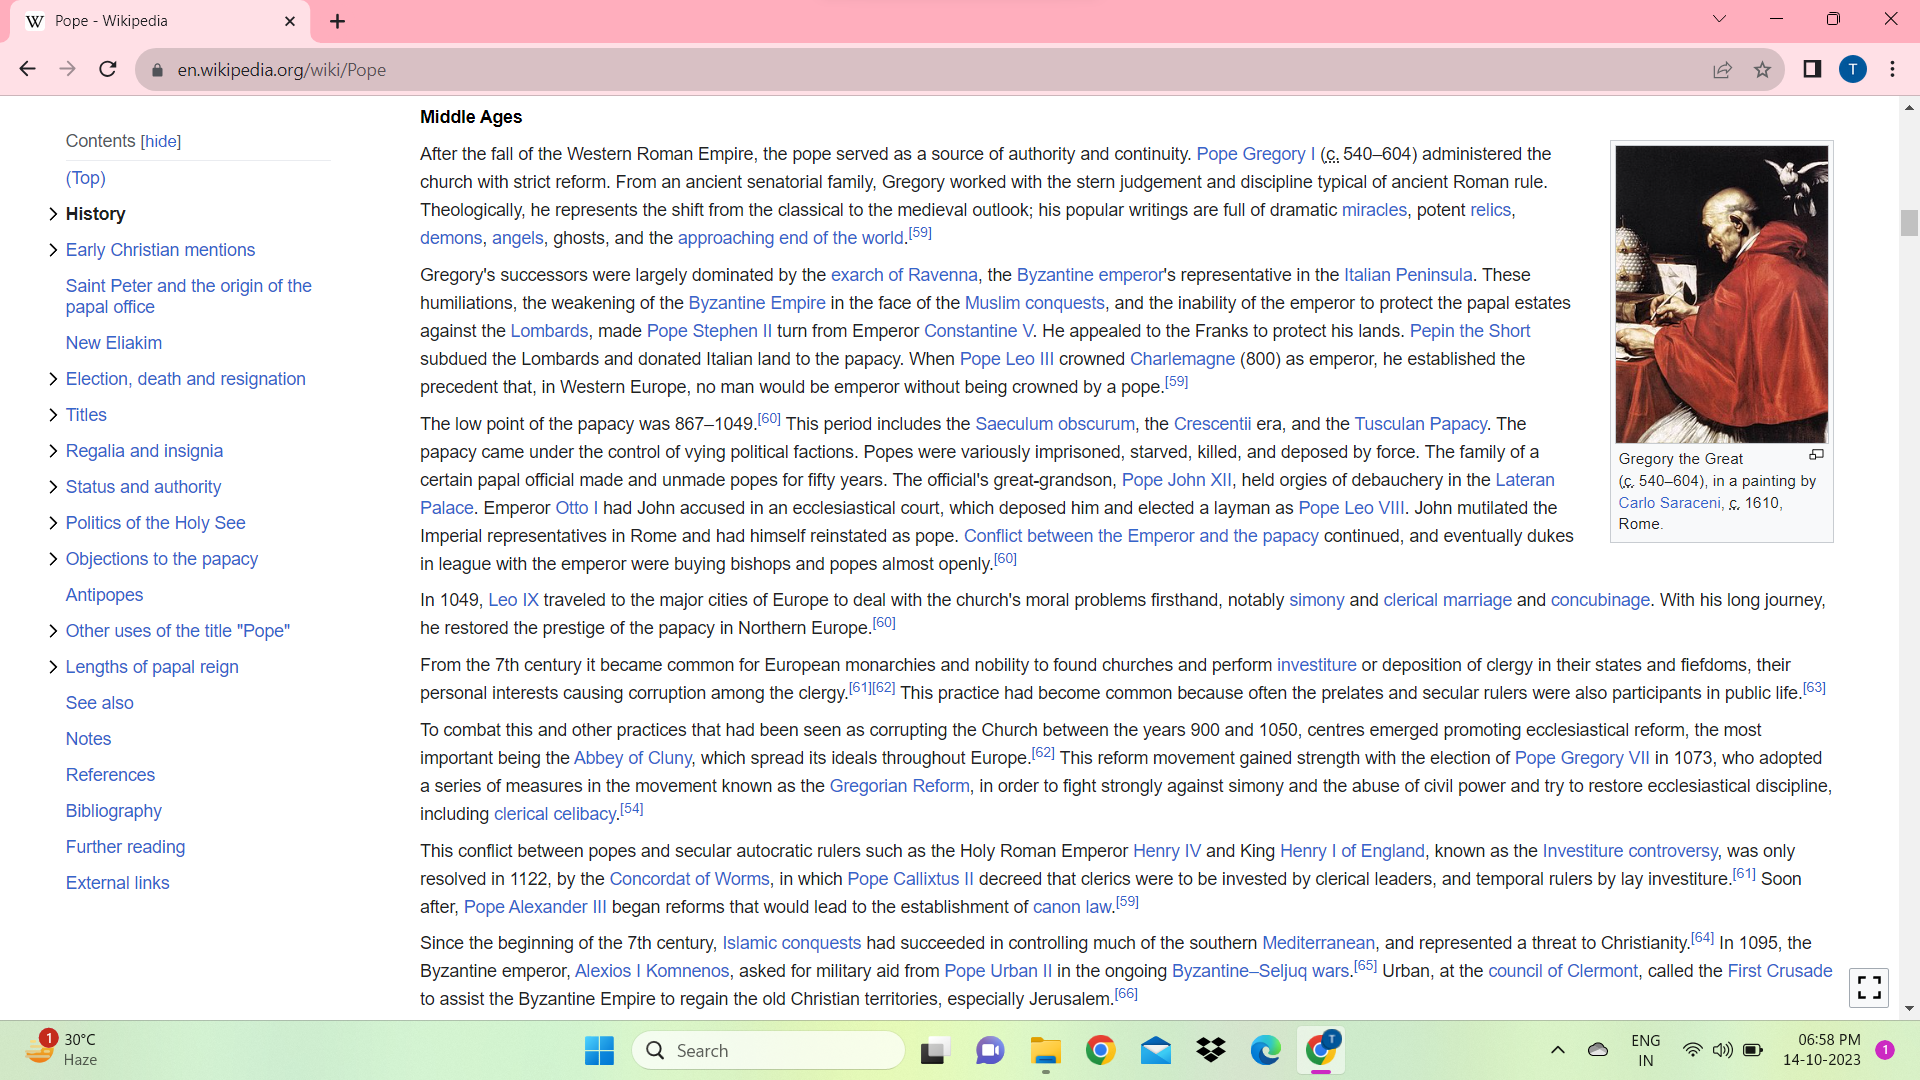Image: (1614, 123, 1832, 434)
Paragraph: (403, 718, 1842, 1016), (393, 399, 1583, 585), (412, 252, 1577, 395), (412, 140, 1568, 248), (412, 654, 1866, 714), (414, 591, 1840, 643), (1607, 449, 1827, 531), (63, 365, 317, 388), (56, 615, 289, 639), (414, 95, 550, 134), (52, 759, 188, 794), (63, 237, 257, 261), (54, 127, 214, 155), (52, 867, 203, 893)
